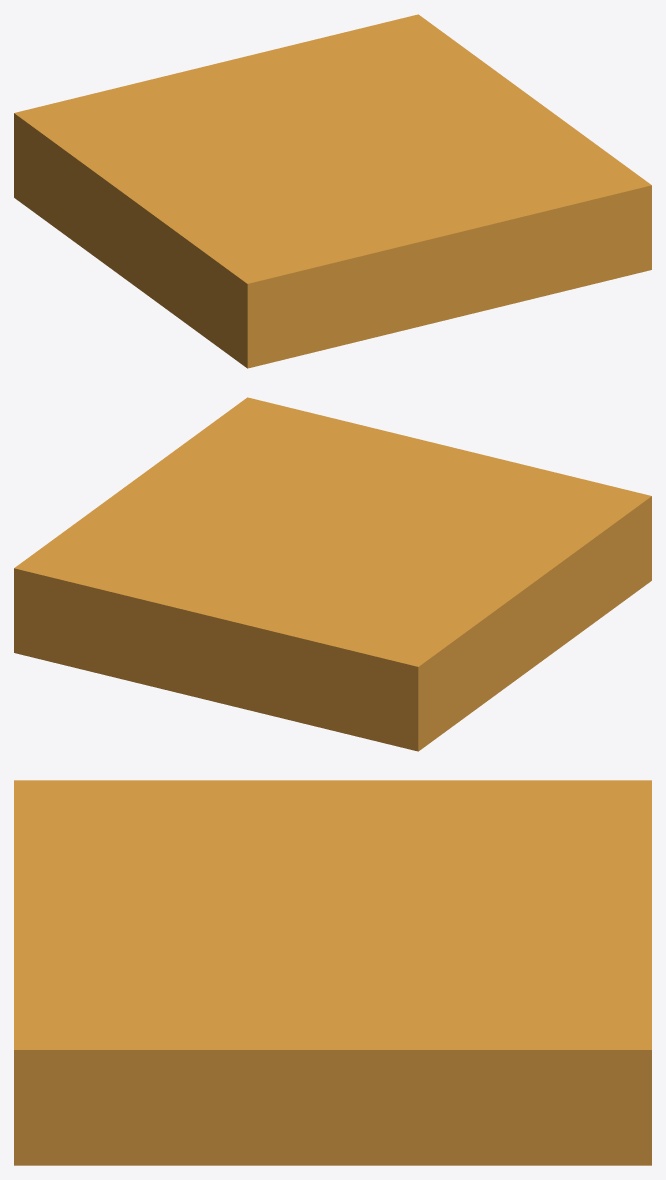
Rendered from tile-runway-main-threshold.glb.
3 renders of one model, top to bottom at view 1: azimuth 30°, elevation 25°; view 2: azimuth 150°, elevation 25°; view 3: azimuth 270°, elevation 25°, orthographic. The views are drawn at different scales.
Visible parts, largest first — view 1: tile-runway-main-threshold; view 2: tile-runway-main-threshold; view 3: tile-runway-main-threshold.
Part boxes in pixels (x1,y1,x2,y2): tile-runway-main-threshold: (14, 14, 651, 368); tile-runway-main-threshold: (14, 397, 651, 751); tile-runway-main-threshold: (14, 780, 651, 1165).
Bounding box in the file's own units: 30 × 6 × 30.
